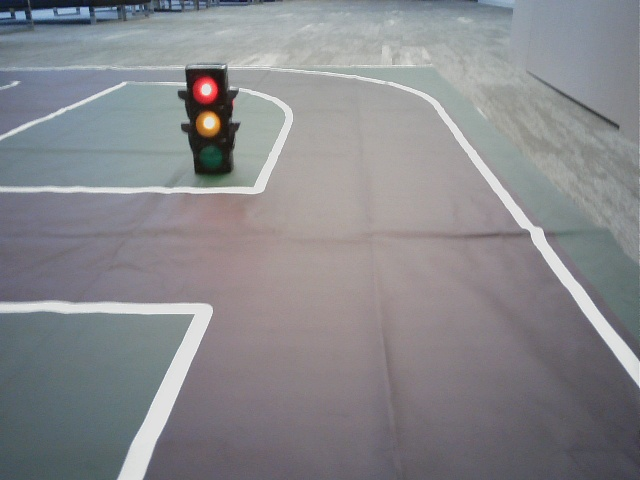red: (189, 69, 230, 174)
